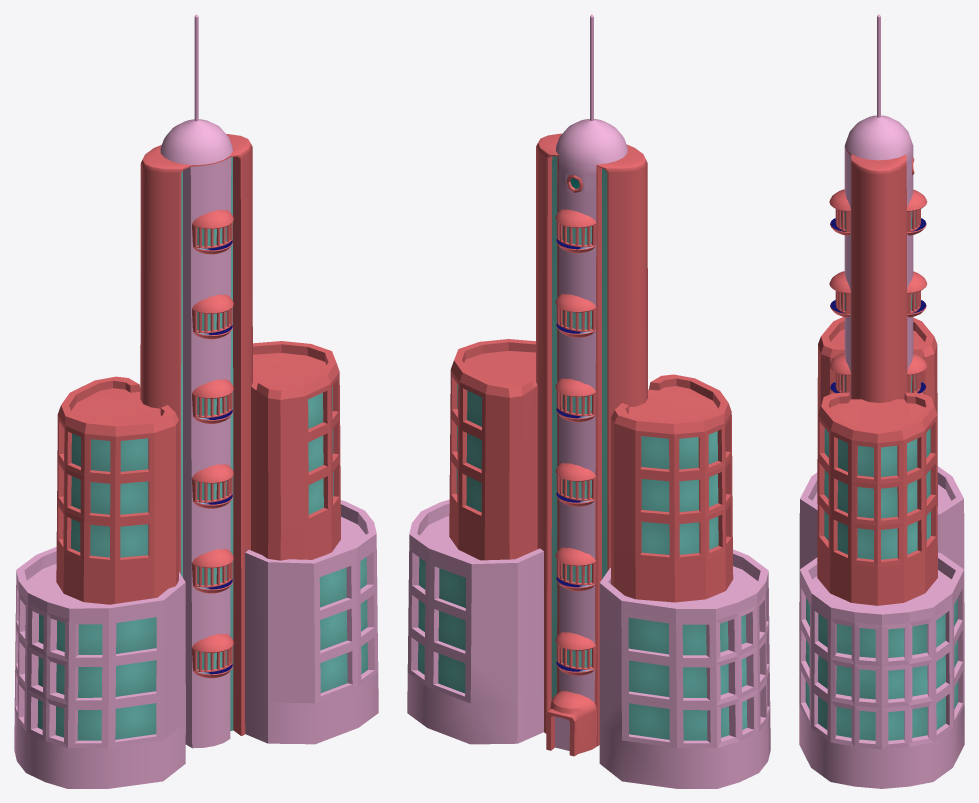
File: SM_Skyscraper_23.fbx
3 renders of one model, left to right at view 1: azimuth 30°, elevation 25°; view 2: azimuth 150°, elevation 25°; view 3: azimuth 270°, elevation 25°, orthographic. The views are drawn at different scales.
Parts seen in each view (by area): view 1: SM_Skyscraper_23; view 2: SM_Skyscraper_23; view 3: SM_Skyscraper_23.
Boxes of the visible parts, x1,y1,x2,y2 form: SM_Skyscraper_23: (14, 14, 378, 788); SM_Skyscraper_23: (407, 14, 770, 788); SM_Skyscraper_23: (799, 14, 964, 788).
Size of the model in its own units: 1499 by 3020 by 653.
